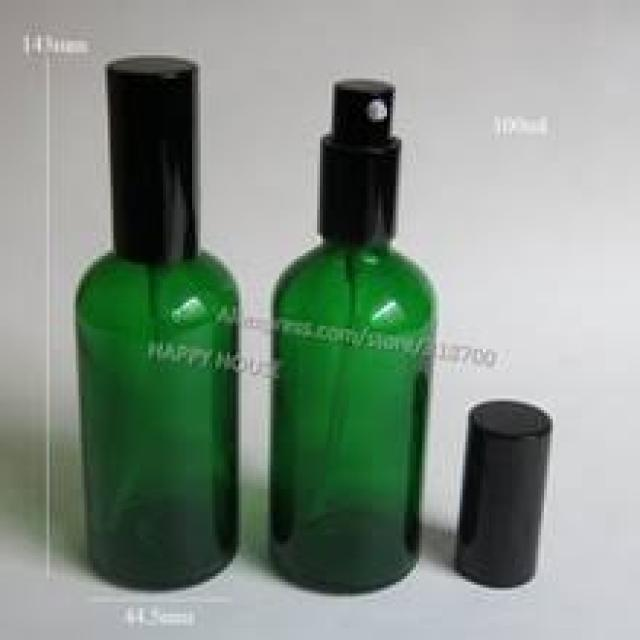glass: (268, 236, 428, 594), (73, 250, 236, 588)
plastic: (445, 399, 547, 591), (102, 52, 192, 262), (317, 79, 399, 236)
